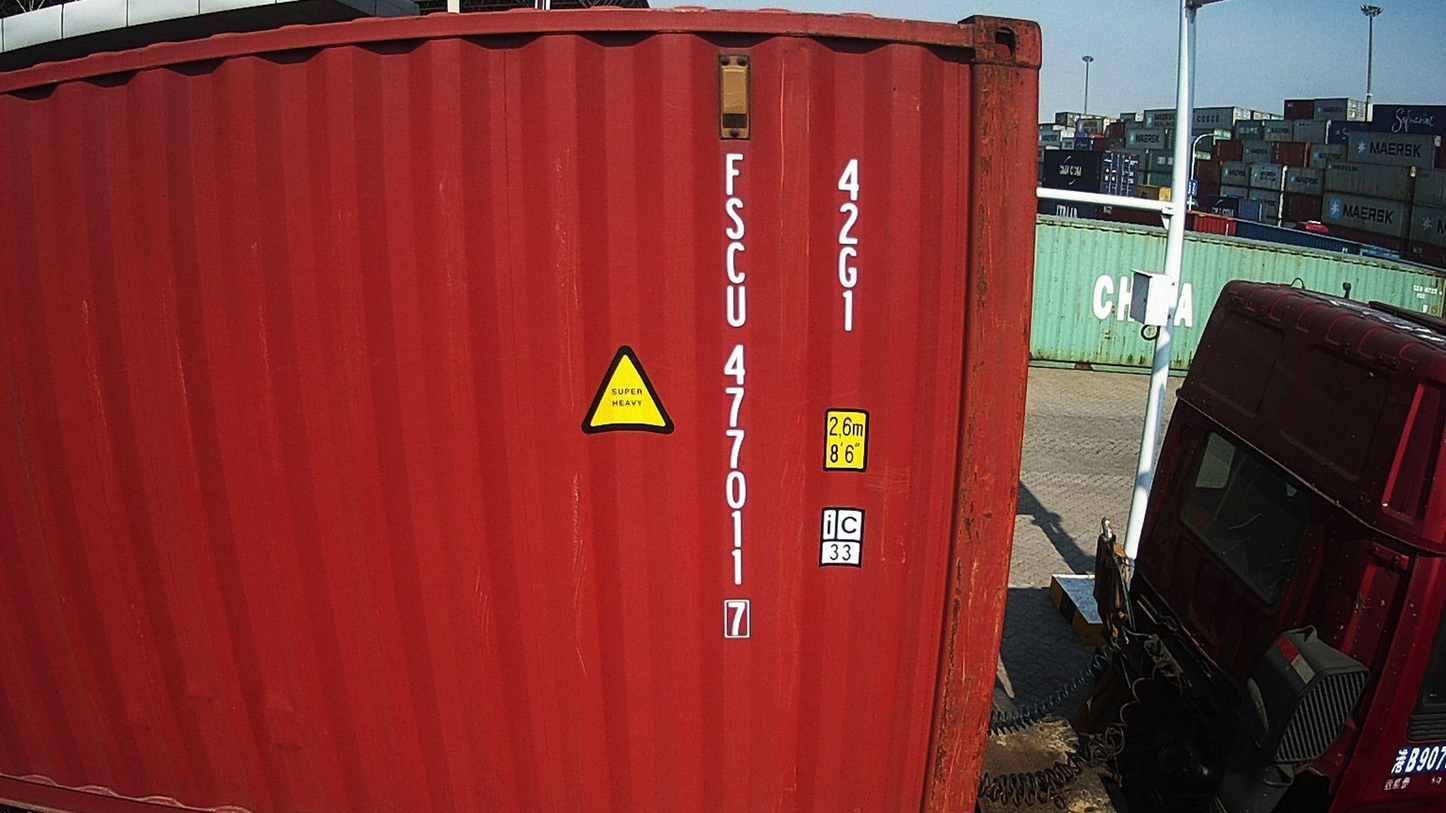container-numbers: (713, 148, 755, 647), (830, 152, 868, 337)
